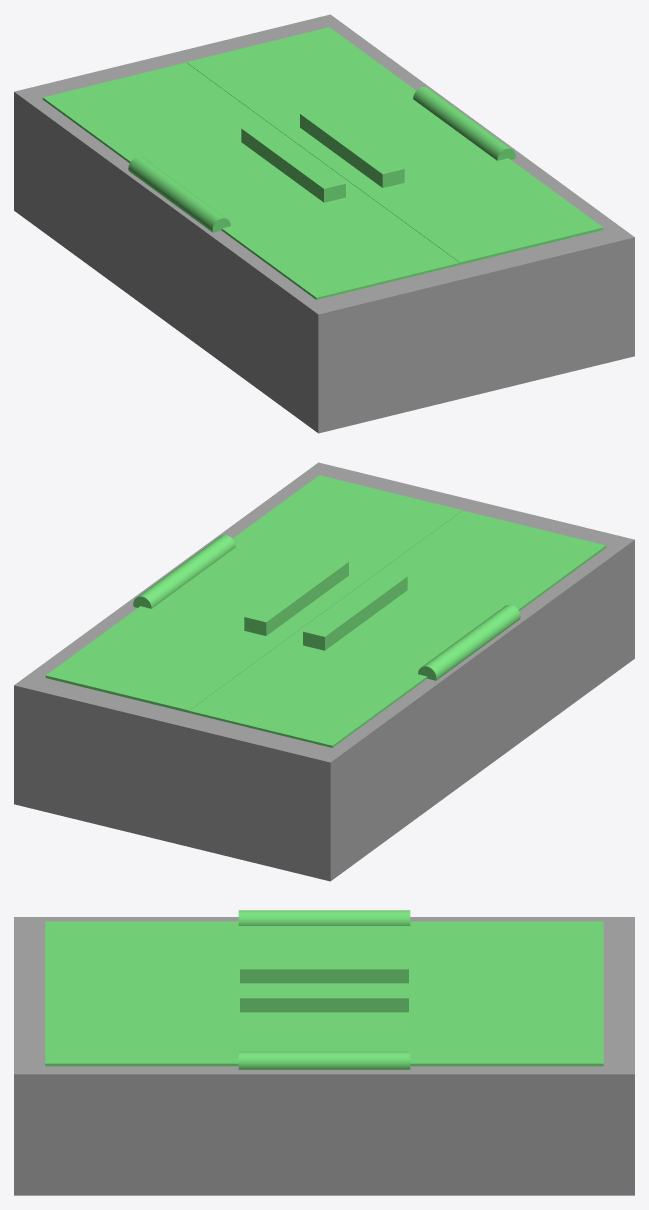
File: obj_box_with_doors.fbx
The picture shows the model from 3 angles, top to bottom: view 1: azimuth 30°, elevation 25°; view 2: azimuth 150°, elevation 25°; view 3: azimuth 270°, elevation 25°; orthographic projection.
Visible parts, largest first — view 1: box_with_doors, Door_L, Door_R; view 2: box_with_doors, Door_L, Door_R; view 3: box_with_doors, Door_R, Door_L.
Boxes of the visible parts, x1=… form: box_with_doors: x1=14, y1=14, x2=634, y2=433; Door_L: x1=42, y1=62, x2=459, y2=299; Door_R: x1=186, y1=27, x2=603, y2=264; box_with_doors: x1=14, y1=462, x2=634, y2=881; Door_L: x1=189, y1=510, x2=606, y2=747; Door_R: x1=45, y1=475, x2=462, y2=712; box_with_doors: x1=14, y1=917, x2=634, y2=1195; Door_R: x1=45, y1=987, x2=603, y2=1069; Door_L: x1=45, y1=910, x2=603, y2=992.
Bounding box in the file's own units: 2.21 × 0.9017 × 3.68.
